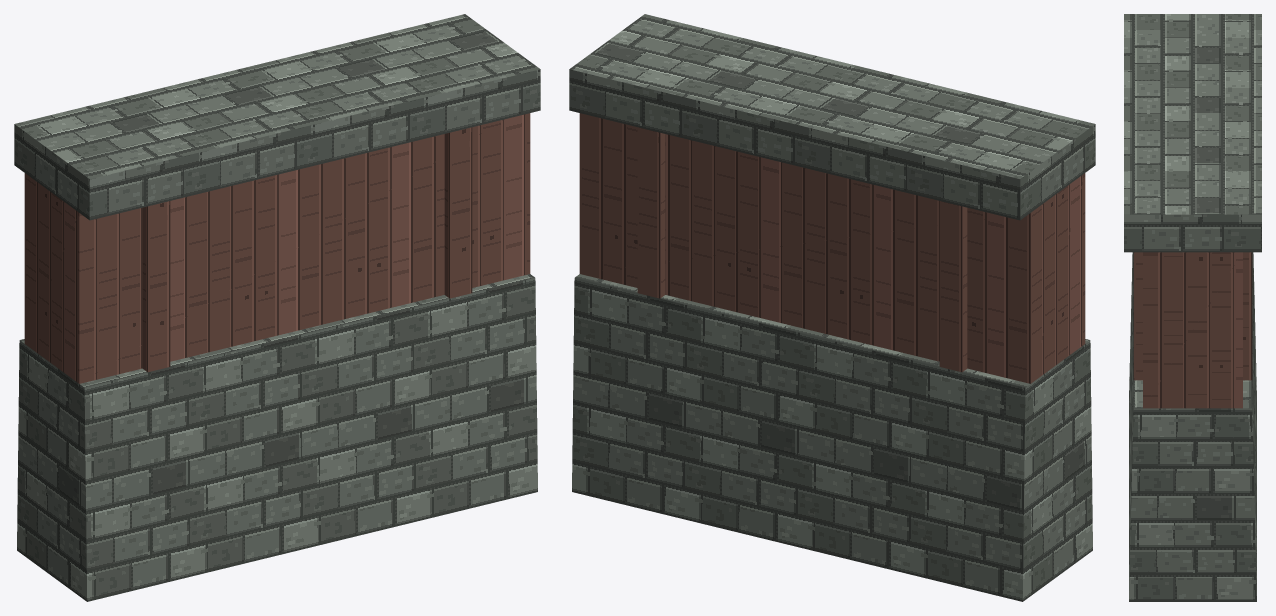
File: wall_segment.glb
3 views of the same model, side by side, from view 1: azimuth 30°, elevation 25°; view 2: azimuth 150°, elevation 25°; view 3: azimuth 270°, elevation 25° (orthographic). The views are drawn at different scales.
Parts seen in each view (by area): view 1: wall_segment; view 2: wall_segment; view 3: wall_segment.
Part boxes in pixels (<box>): wall_segment: <box>14,14,540,601</box>; wall_segment: <box>569,14,1095,601</box>; wall_segment: <box>1124,14,1261,601</box>.
Bounding box in the file's own units: 4 × 3.6 × 1.16.
2 materials, 2 textured.
